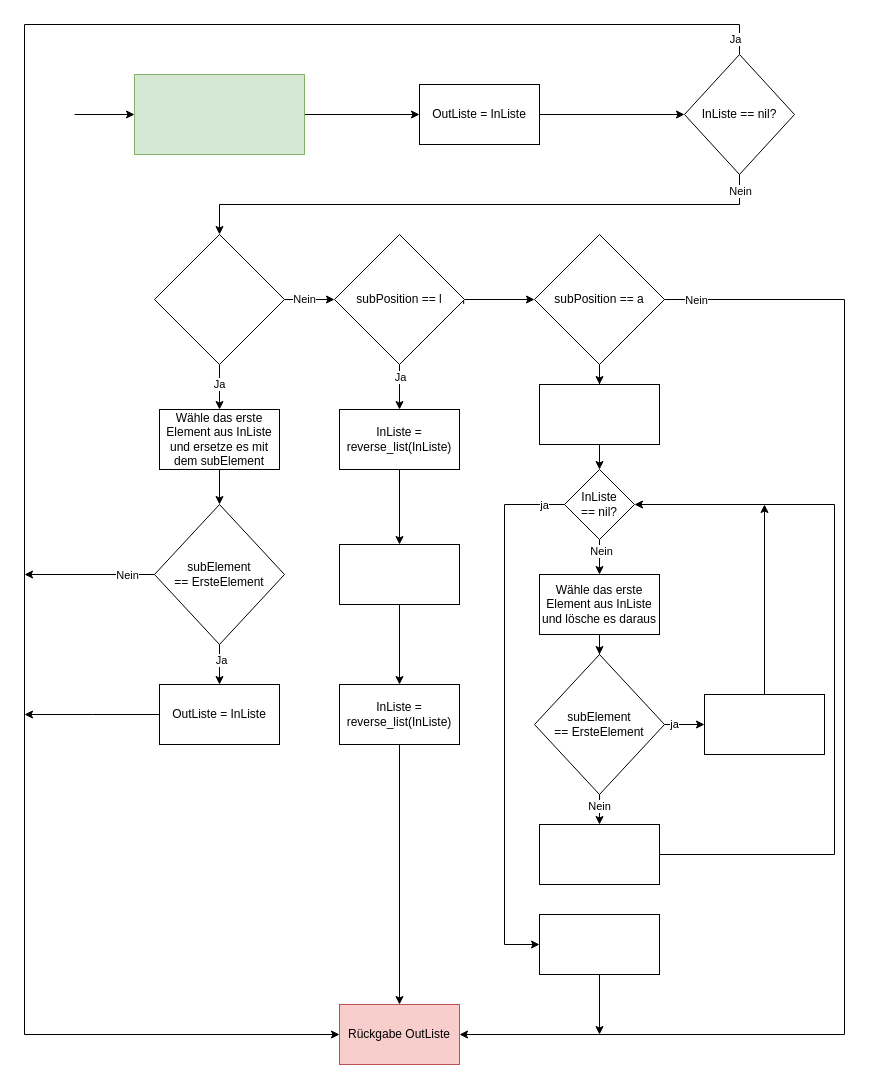
The diagram is 870 pixels wide and 1082 high, and some of its shapes have lost their labels. Here are the shapes that lost their labels. From the top down, the box of each, then its label:
(134, 74, 304, 154): substitute: Input: subPosition, subElement, InListe, OutListe
(154, 234, 284, 364): subPosition == e
(538, 384, 660, 444): TempList = []
(338, 544, 460, 604): InListe = substitute(e, subElement, InListe)
(704, 694, 824, 754): append(TempList, subElement)
(538, 824, 660, 884): append(TempList, ErsteElement)
(538, 914, 660, 974): OutList = OutList
